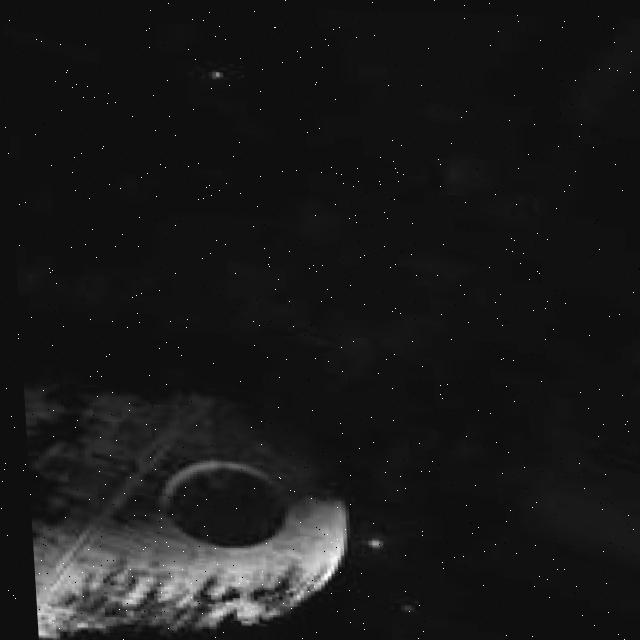deathstar: (22, 389, 344, 640)
